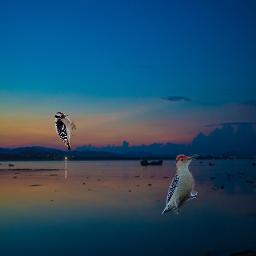Woodpecker: (161, 154, 198, 216), (54, 112, 76, 151)
